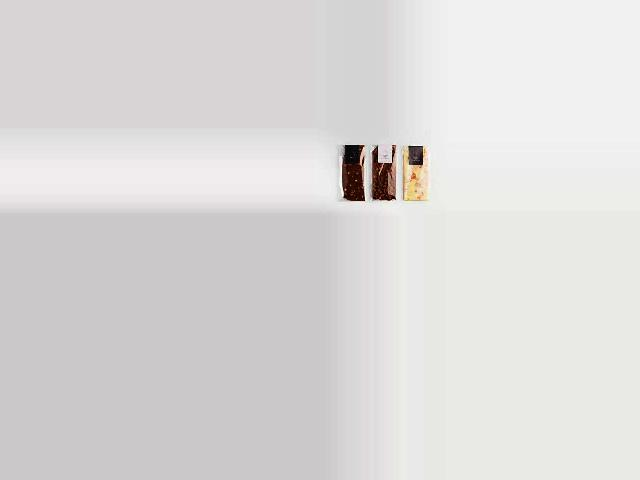chocolate: (337, 145, 363, 203)
